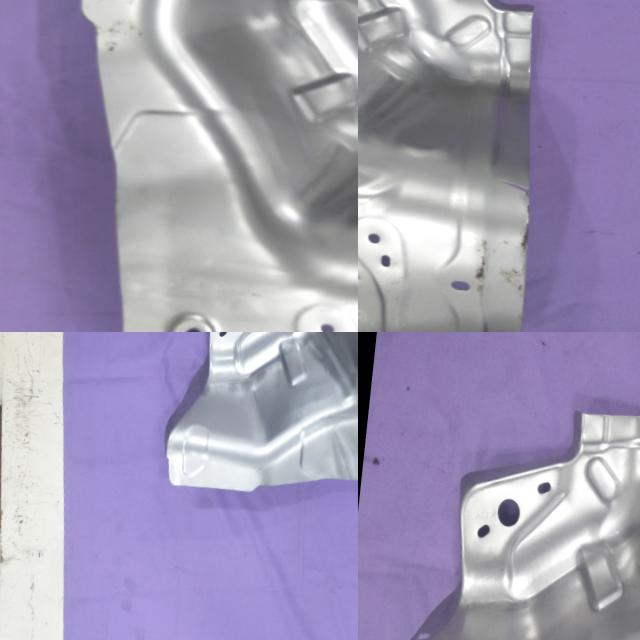Defect: (488, 167, 542, 204)
Healthy: (360, 385, 640, 640)
rust: (75, 0, 166, 99), (474, 204, 546, 306)
